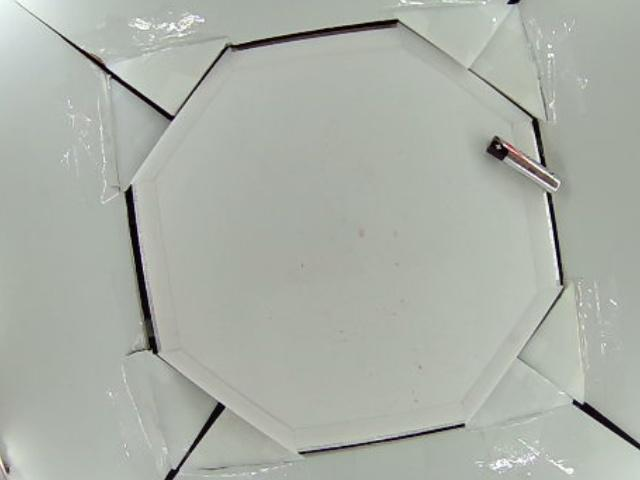Battery: (483, 133, 560, 193)
